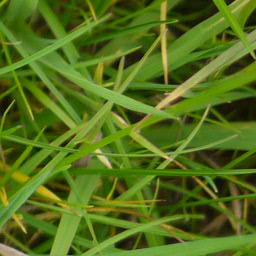weed: (1, 1, 255, 256)
